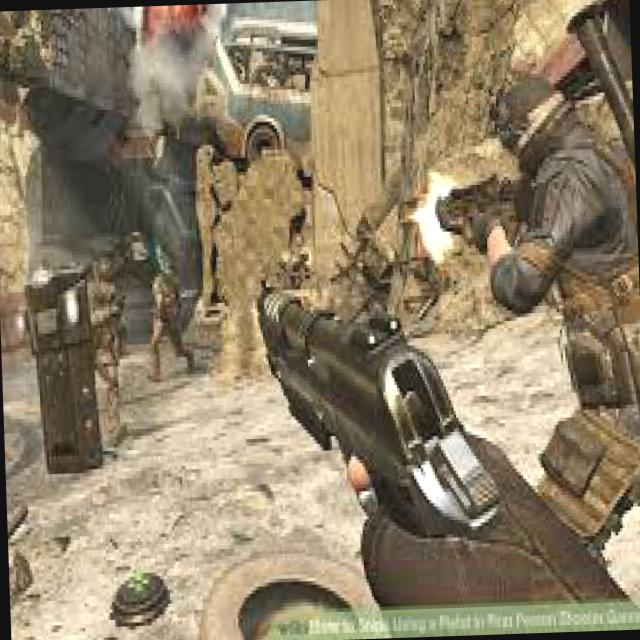handgun: (237, 258, 502, 552)
